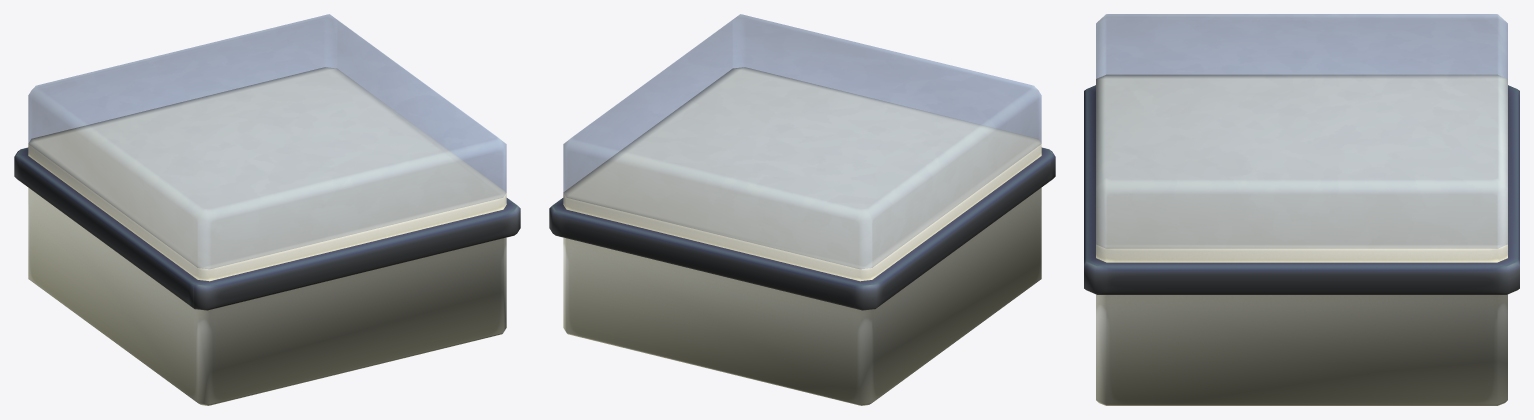
The model's file is Vitrine_modulaire_1_LP.fbx.
3 views of the same model, side by side, from view 1: azimuth 30°, elevation 25°; view 2: azimuth 150°, elevation 25°; view 3: azimuth 270°, elevation 25° (orthographic). The views are drawn at different scales.
Visible parts, largest first — view 1: Vitrine modulaire 1; view 2: Vitrine modulaire 1; view 3: Vitrine modulaire 1.
Boxes of the visible parts, x1,y1,x2,y2 form: Vitrine modulaire 1: (14, 14, 520, 405); Vitrine modulaire 1: (549, 14, 1055, 405); Vitrine modulaire 1: (1084, 14, 1519, 405).
Bounding box in the file's own units: 106 × 60 × 106.
